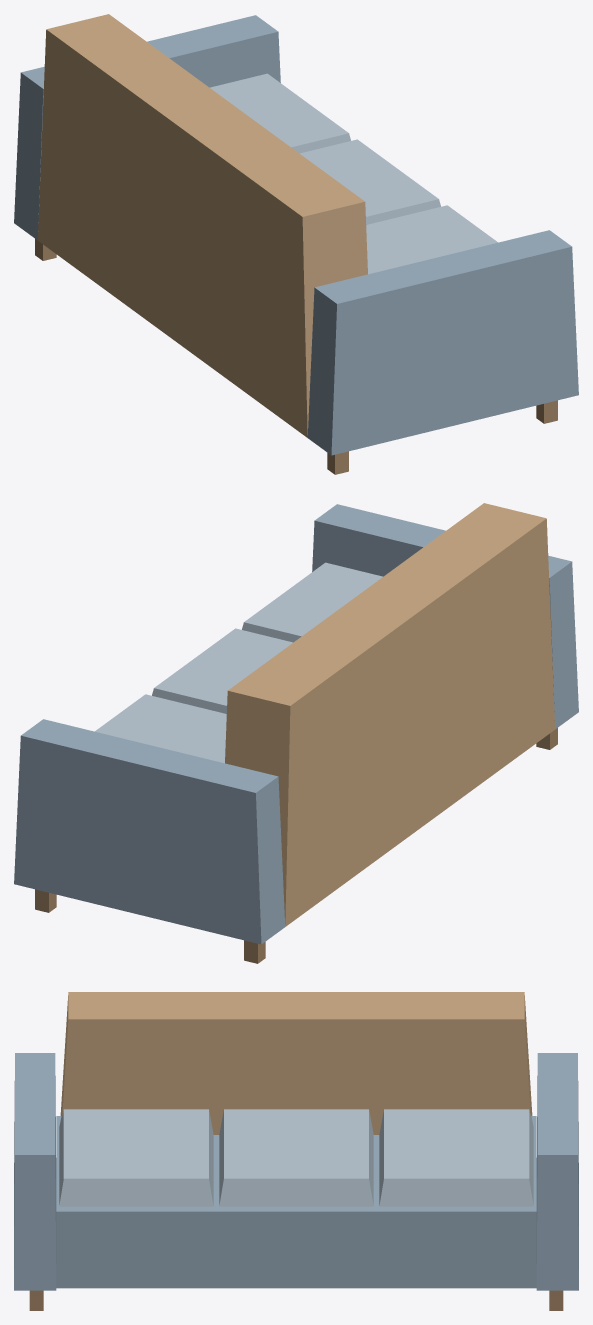
Rendered from sofa.glb.
The picture shows the model from 3 angles, top to bottom: view 1: azimuth 30°, elevation 25°; view 2: azimuth 150°, elevation 25°; view 3: azimuth 270°, elevation 25°; orthographic projection. The views are drawn at different scales.
Bounding box in the file's own units: 0.9 × 0.85 × 2.
